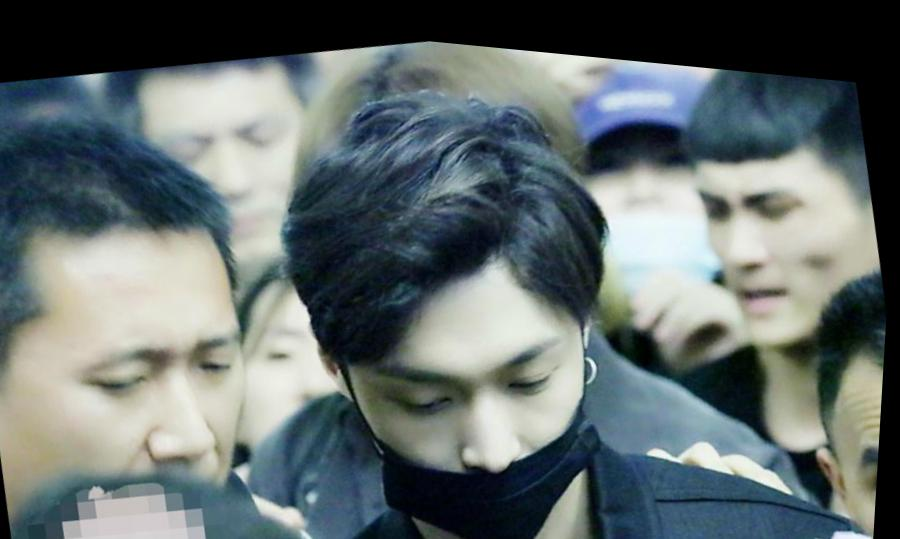NONE: (14, 283, 289, 539), (688, 128, 885, 339), (153, 78, 321, 277)
WRONG: (348, 294, 622, 539), (565, 91, 740, 306)
